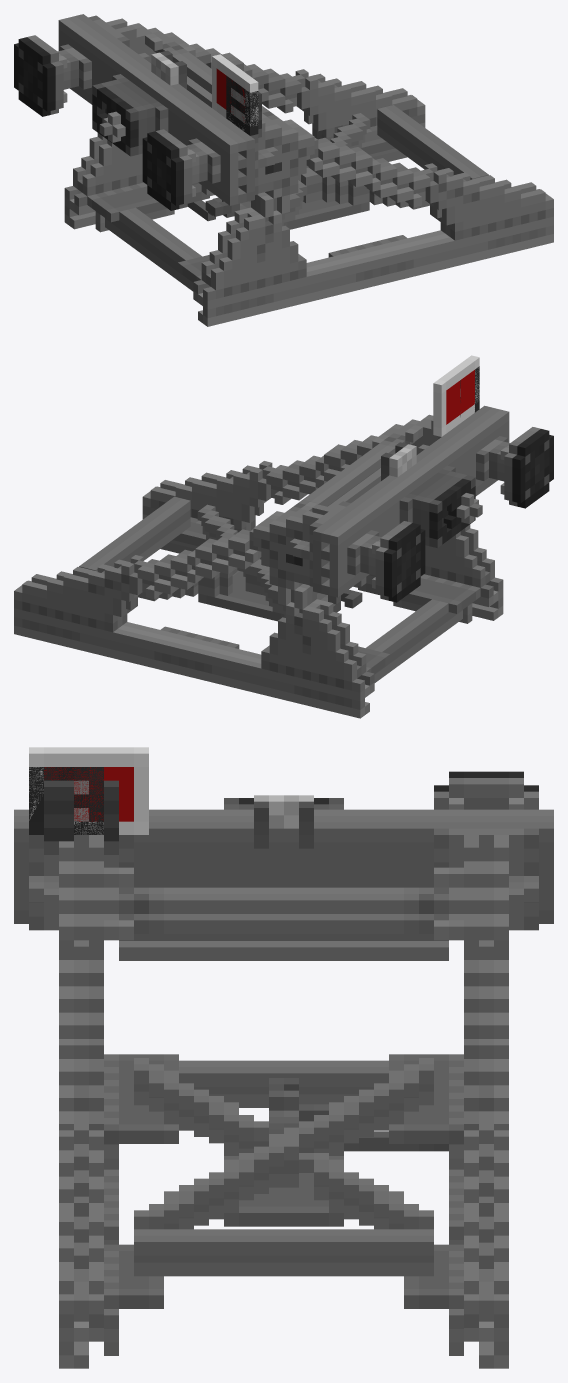
Rendered from rawie_typ_4_modern.obj.
3 renders of one model, top to bottom at view 1: azimuth 30°, elevation 25°; view 2: azimuth 150°, elevation 25°; view 3: azimuth 270°, elevation 25°, orthographic. The views are drawn at different scales.
Parts seen in each view (by area): view 1: FRAME_2, FRAME_1, WIDGET_1_TOGGLE_HIDE_CG_sh, WIDGET_2_TOGGLE_HIDE_INVERT_CG_sh_NOTOUCH; view 2: FRAME_2, FRAME_1, WIDGET_1_TOGGLE_HIDE_CG_sh; view 3: FRAME_2, FRAME_1, WIDGET_1_TOGGLE_HIDE_CG_sh, WIDGET_2_TOGGLE_HIDE_INVERT_CG_sh_NOTOUCH.
Boxes of the visible parts, x1,y1,x2,y2 form: FRAME_2: (64,23,553,326); FRAME_1: (14,14,278,210); WIDGET_1_TOGGLE_HIDE_CG_sh: (212,54,261,137); WIDGET_2_TOGGLE_HIDE_INVERT_CG_sh_NOTOUCH: (226,75,258,135); FRAME_2: (14,414,503,718); FRAME_1: (289,405,553,602); WIDGET_1_TOGGLE_HIDE_CG_sh: (433,355,479,436); FRAME_2: (59,867,508,1368); FRAME_1: (14,771,553,930); WIDGET_1_TOGGLE_HIDE_CG_sh: (29,747,148,854); WIDGET_2_TOGGLE_HIDE_INVERT_CG_sh_NOTOUCH: (29,767,103,841).
Size of the model in its own units: 2.94 by 1.75 by 2.25.
Materials: 1 (1 with a texture image).
